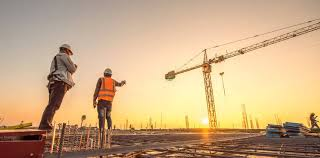helmet: (60, 43, 75, 51), (104, 68, 112, 74)
vest: (98, 77, 117, 101)
